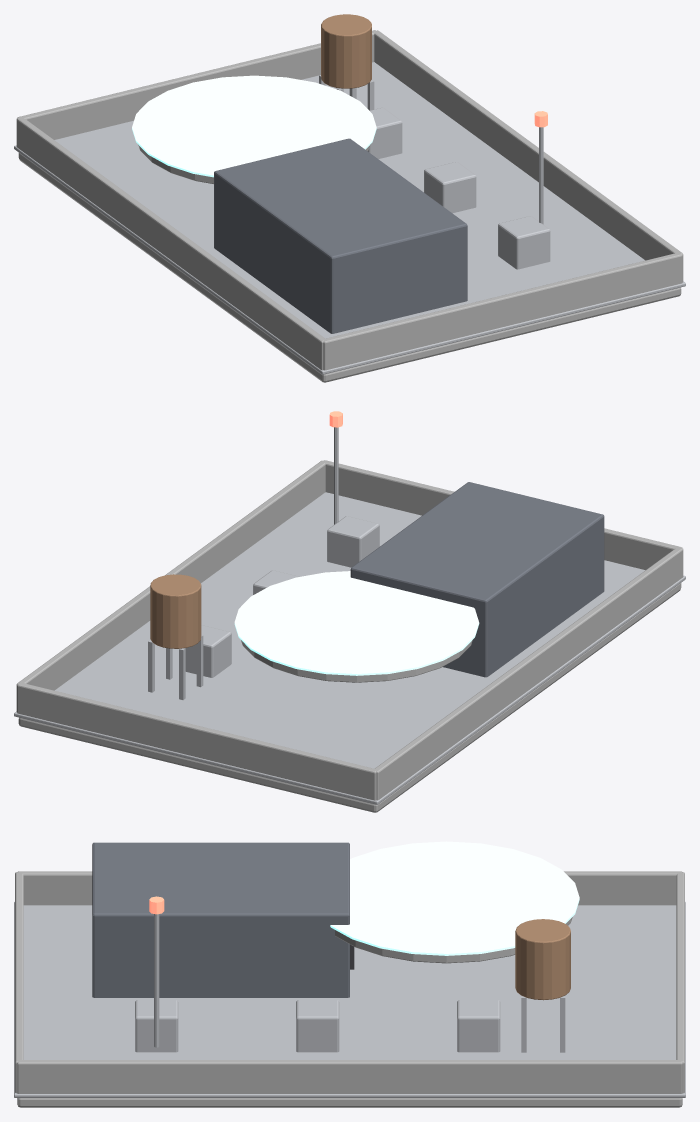
Rendered from roof_4x6_heli_office.glb.
3 renders of one model, top to bottom at view 1: azimuth 30°, elevation 25°; view 2: azimuth 150°, elevation 25°; view 3: azimuth 270°, elevation 25°, orthographic. The views are drawn at different scales.
Visible parts, largest first — view 1: ext_parapet, ext_penthouse, int_slab_edge, ext_helipad_ring, ext_ac, int_slab, ext_tank; view 2: int_slab_edge, ext_parapet, ext_penthouse, ext_helipad_ring, int_slab, ext_ac, ext_tank, ext_helipad, ext_tank_legs; view 3: int_slab_edge, ext_penthouse, ext_parapet, ext_helipad_ring, ext_ac, int_slab, ext_tank, ext_helipad, ext_mast, ext_tank_legs.
Part boxes in pixels (<box>): ext_parapet: <box>16,30,683,370</box>; ext_penthouse: <box>214,138,467,333</box>; int_slab_edge: <box>14,62,685,374</box>; ext_helipad_ring: <box>132,75,376,177</box>; ext_ac: <box>368,107,550,269</box>; int_slab: <box>18,153,681,382</box>; ext_tank: <box>321,14,371,88</box>; int_slab_edge: <box>14,492,685,804</box>; ext_parapet: <box>16,460,683,800</box>; ext_penthouse: <box>350,482,604,677</box>; ext_helipad_ring: <box>234,571,479,675</box>; int_slab: <box>18,583,681,812</box>; ext_ac: <box>185,516,379,677</box>; ext_tank: <box>150,574,201,648</box>; ext_helipad: <box>241,640,472,682</box>; ext_tank_legs: <box>148,635,203,699</box>; int_slab_edge: <box>14,902,685,1097</box>; ext_penthouse: <box>92,842,349,997</box>; ext_parapet: <box>15,871,684,1093</box>; ext_helipad_ring: <box>330,841,579,955</box>; ext_ac: <box>135,1000,500,1052</box>; int_slab: <box>17,1098,682,1107</box>; ext_tank: <box>515,919,570,1000</box>; ext_helipad: <box>335,917,572,963</box>; ext_mast: <box>154,914,159,1047</box>; ext_tank_legs: <box>521,995,565,1052</box>.
Size of the model in its own units: 4.26 by 1.73 by 6.26.
